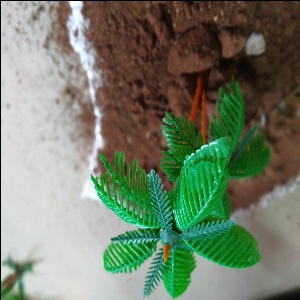plant: (97, 88, 258, 300)
